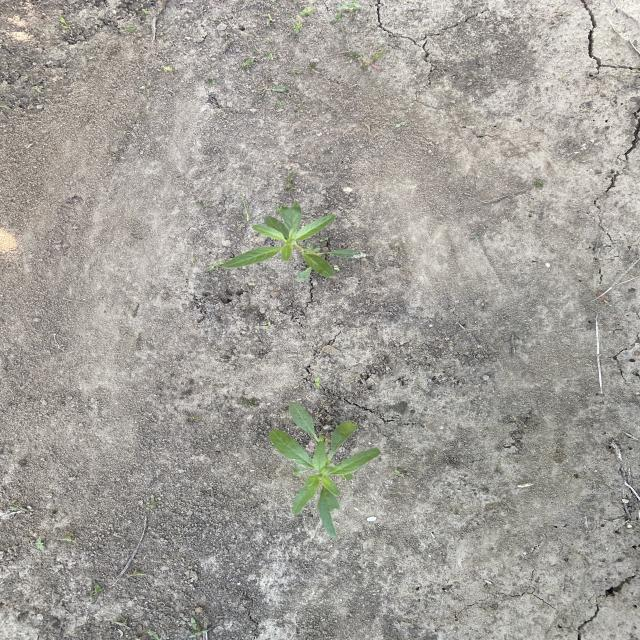Waterhemp: (266, 401, 385, 540), (214, 198, 362, 284)
